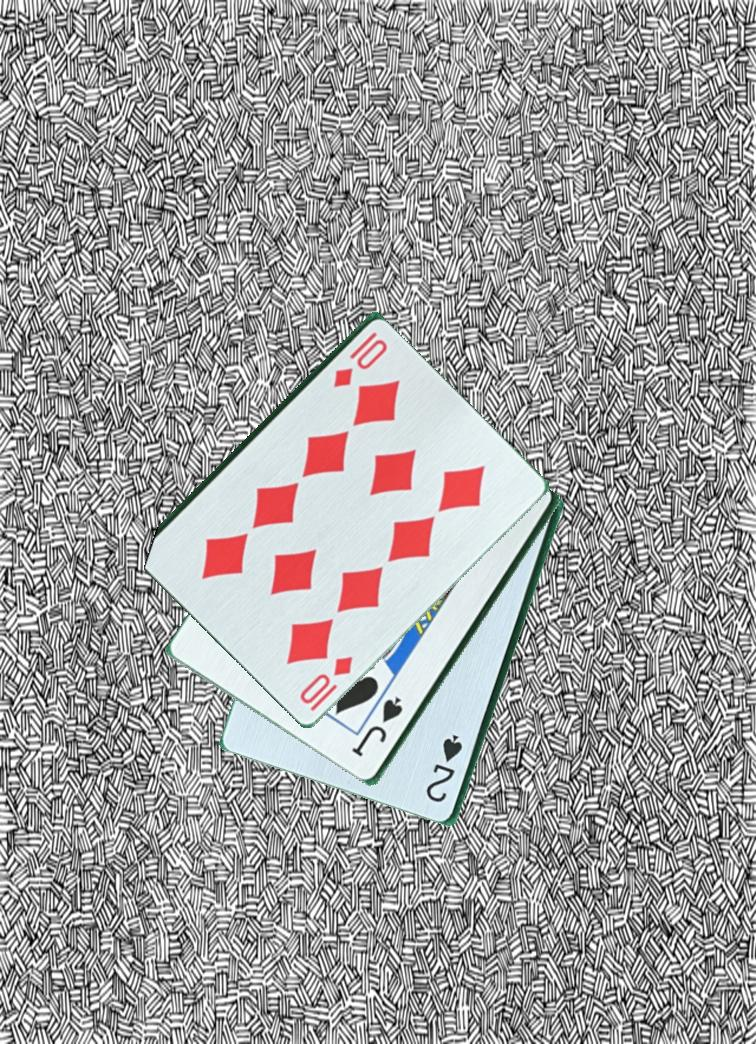2s: (421, 731, 466, 812)
js: (351, 693, 406, 761)
td: (323, 329, 381, 394), (295, 652, 356, 709)
